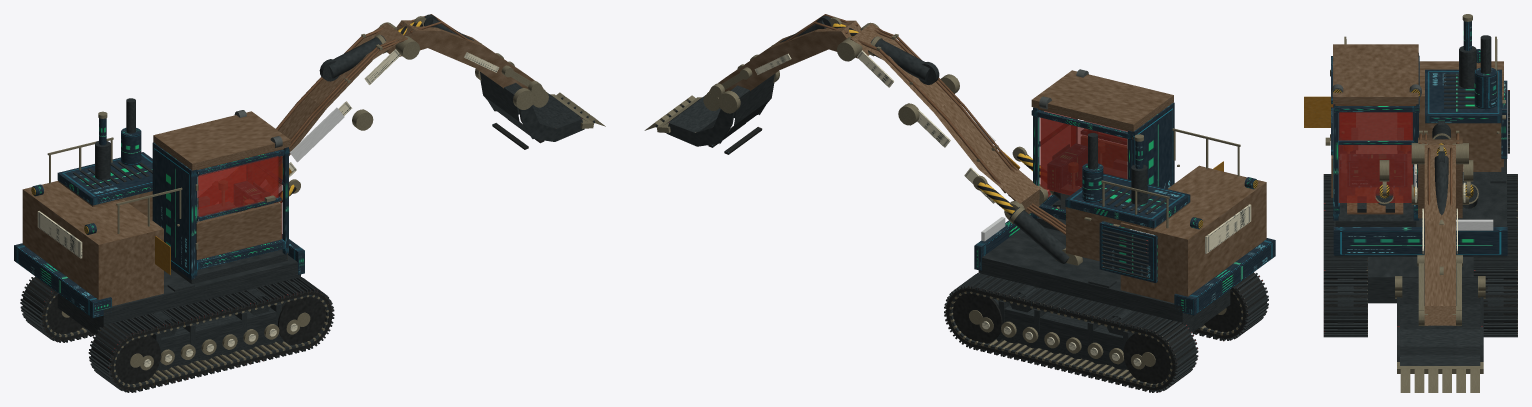
The model's file is PZ_Excavator_DF180.glb.
3 views of the same model, side by side, from view 1: azimuth 30°, elevation 25°; view 2: azimuth 150°, elevation 25°; view 3: azimuth 270°, elevation 25° (orthographic). The views are drawn at different scales.
Parts seen in each view (by area): view 1: Rear_Counterweight_CastSteel, Cabin_Roof_Panel, Cabin_RearBulkhead, Upper_Deck_Foundation, Cabin_Door_Window, Cabin_Door_Lower_Solid, Dipper_Stick_Tapered_BoxBeam, Engine_Hood_Black_Top, Boom_Main_BoxWeldment, LEFT_Track_Inner_Frame, Rear_Counterweight_Lower_Bumper, Bucket_Curved_Heavy_Shell (+18 smaller); view 2: Rear_Counterweight_CastSteel, Upper_Deck_Foundation, Cabin_Roof_Panel, Boom_Main_BoxWeldment, Cab_Right_Side_Glass, Engine_Hood_Black_Top, Dipper_Stick_Tapered_BoxBeam, Cabin_RearBulkhead, RIGHT_Track_Inner_Frame, Rear_Counterweight_Lower_Bumper, Bucket_Curved_Heavy_Shell, Side_Radiator_Housing (+18 smaller); view 3: Cabin_Roof_Panel, Bucket_Curved_Heavy_Shell, Dipper_Stick_Tapered_BoxBeam, Upper_Deck_Bumper_Front, Cab_Forward_ImpactGlass_1.16, Engine_Hood_Black_Top, Cab_Forward_ImpactGlass_1.88, Upper_Deck_Foundation, Engine_Hood_Yellow, Carriage_Main_Armored_Box, Cabin_StampedFloor, Cab_Dashboard_Housing (+55 smaller).
Part boxes in pixels (x1,y1,x2,y2): Rear_Counterweight_CastSteel: (22,181,163,306); Cabin_Roof_Panel: (153,111,290,170); Cabin_RearBulkhead: (152,142,195,279); Upper_Deck_Foundation: (94,255,300,324); Cabin_Door_Window: (198,156,278,217); Cabin_Door_Lower_Solid: (196,202,281,259); Dipper_Stick_Tapered_BoxBeam: (387,20,543,104); Engine_Hood_Black_Top: (57,152,152,205); Boom_Main_BoxWeldment: (278,23,406,165); LEFT_Track_Inner_Frame: (159,308,277,365); Rear_Counterweight_Lower_Bumper: (14,243,111,318); Bucket_Curved_Heavy_Shell: (480,72,585,134); Rear_Counterweight_CastSteel: (1120,165,1266,302); Upper_Deck_Foundation: (978,227,1192,322); Cabin_Roof_Panel: (1031,70,1173,131); Boom_Main_BoxWeldment: (851,23,1040,213); Cab_Right_Side_Glass: (1040,117,1127,195); Engine_Hood_Black_Top: (1065,173,1190,228); Dipper_Stick_Tapered_BoxBeam: (709,20,869,108); Cabin_RearBulkhead: (1132,102,1174,188); RIGHT_Track_Inner_Frame: (1000,305,1123,363); Rear_Counterweight_Lower_Bumper: (1174,238,1275,315); Bucket_Curved_Heavy_Shell: (665,74,774,139); Side_Radiator_Housing: (1099,221,1157,282); Cabin_Roof_Panel: (1333,44,1418,104); Bucket_Curved_Heavy_Shell: (1400,278,1480,365); Dipper_Stick_Tapered_BoxBeam: (1424,144,1455,325); Upper_Deck_Bumper_Front: (1333,227,1507,255); Cab_Forward_ImpactGlass_1.16: (1338,145,1412,202); Engine_Hood_Black_Top: (1425,69,1501,123); Cab_Forward_ImpactGlass_1.88: (1338,112,1412,140); Upper_Deck_Foundation: (1334,159,1506,256); Engine_Hood_Yellow: (1425,123,1501,171); Carriage_Main_Armored_Box: (1367,257,1473,300); Cabin_StampedFloor: (1335,171,1416,226); Cab_Dashboard_Housing: (1347,154,1406,186).
Bounding box in the file's own units: 9.59 × 4.24 × 2.95.
2 materials, 2 textured.
